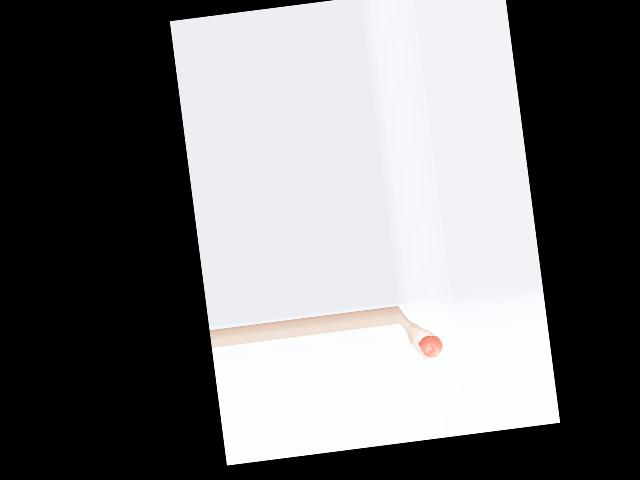tomato: (419, 334, 443, 359)
